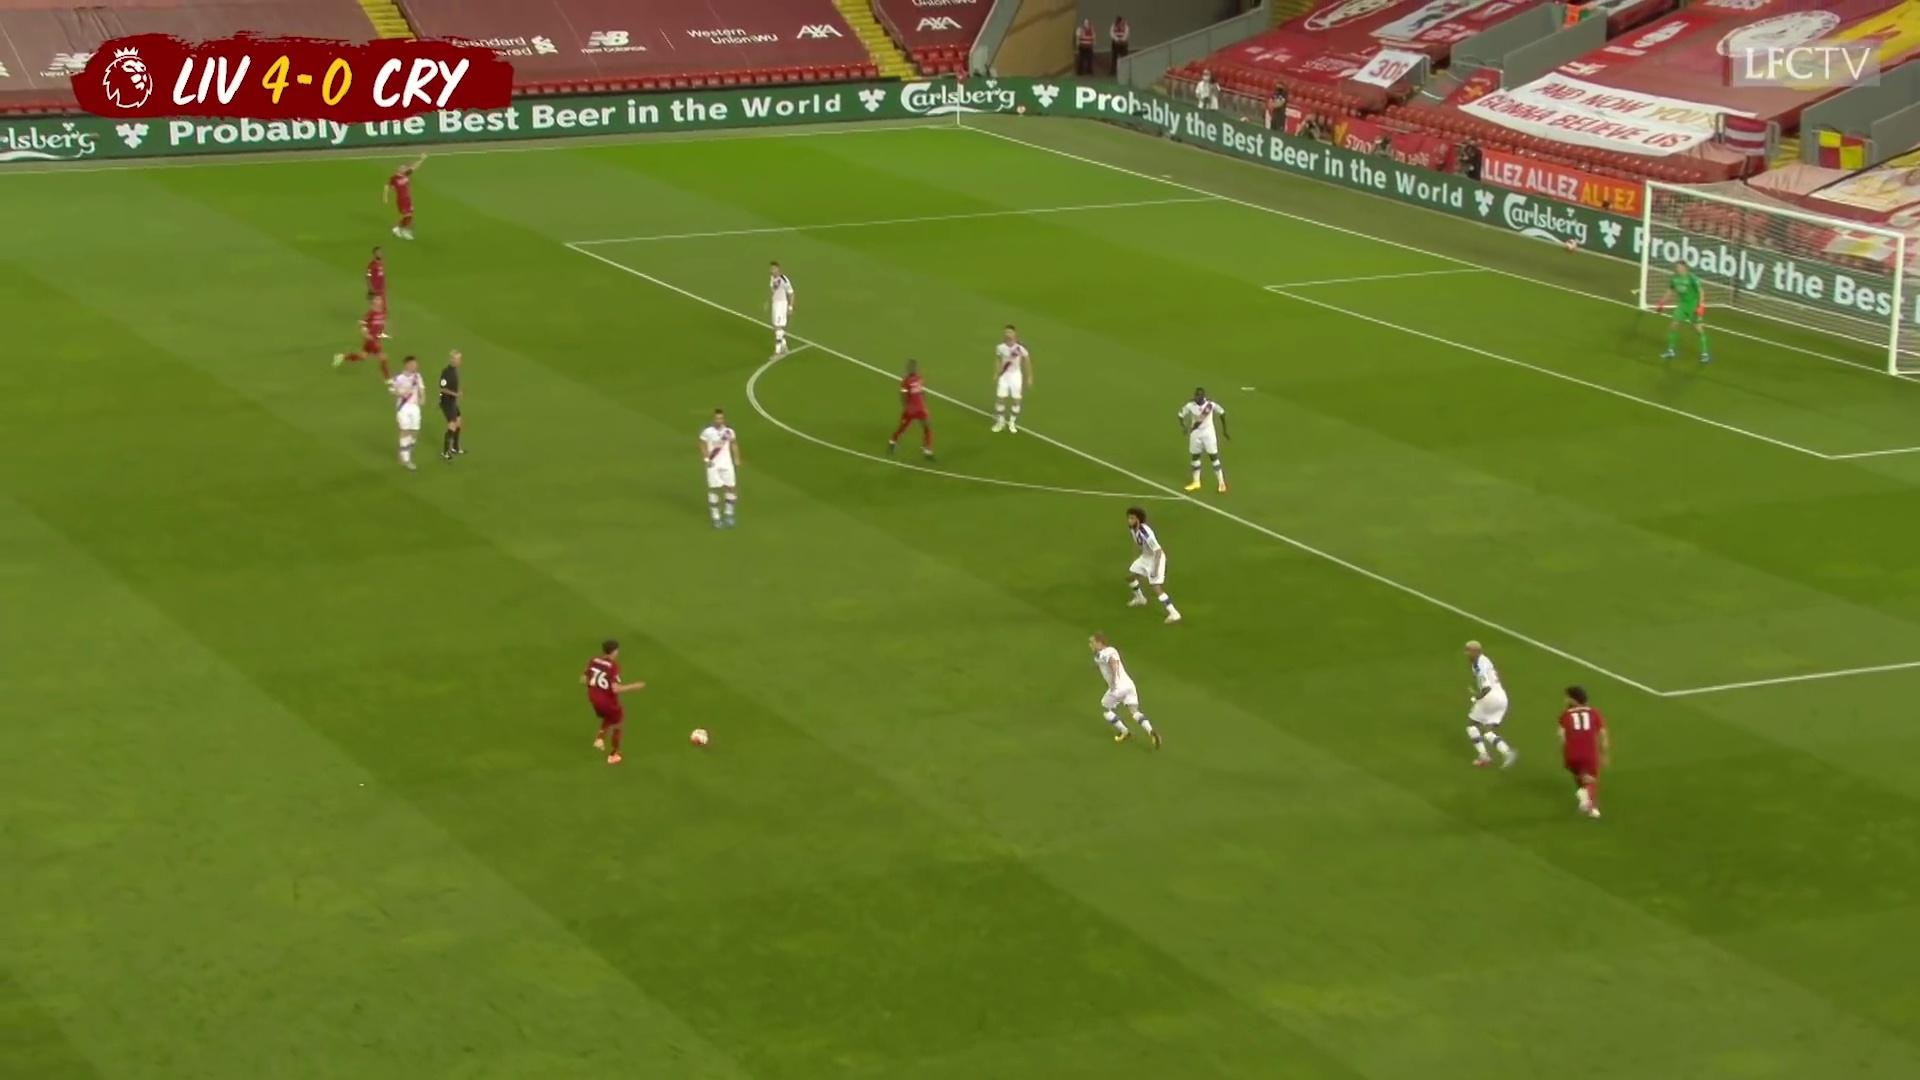ball: (688, 726, 713, 751)
goalkeeper: (1652, 259, 1714, 368)
player: (578, 635, 646, 769), (1089, 630, 1166, 748), (1550, 681, 1612, 823), (1458, 636, 1520, 773), (1123, 506, 1186, 628), (1177, 383, 1237, 495), (695, 405, 746, 533), (882, 357, 942, 463), (335, 284, 397, 384), (391, 353, 436, 476), (994, 323, 1038, 439), (386, 155, 431, 247), (357, 245, 393, 354), (765, 260, 801, 361)
referee: (434, 348, 475, 465)
